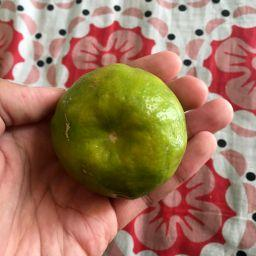Unripe: (51, 65, 189, 199)
